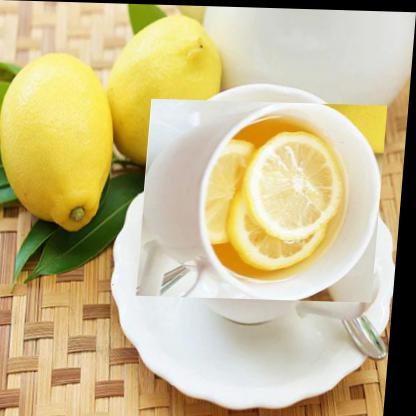non_milk_based_beverage: (150, 89, 381, 311)
